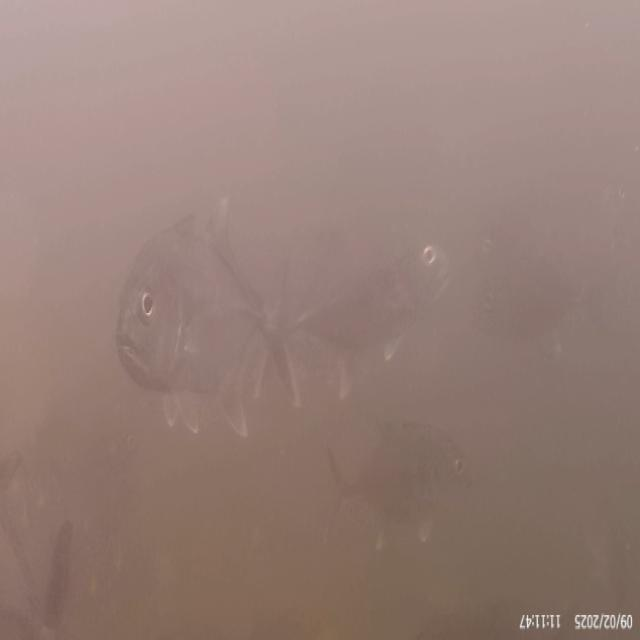ikan: (122, 204, 331, 438)
